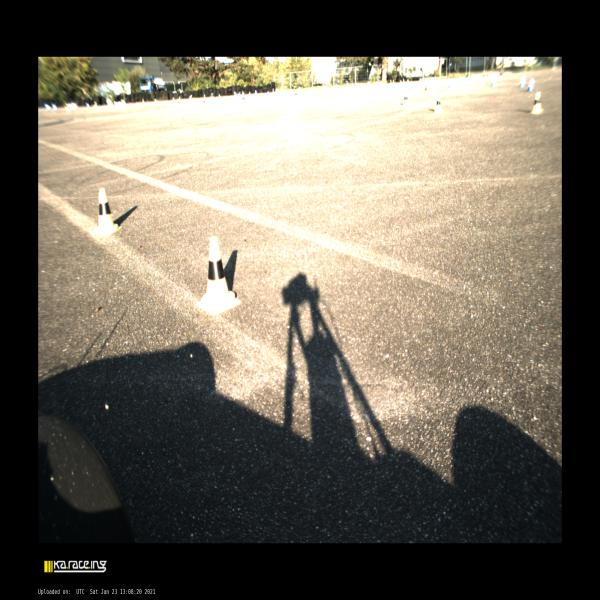blue_cone: (490, 76, 496, 88), (448, 81, 454, 92), (528, 80, 532, 91), (520, 77, 524, 88), (532, 78, 534, 90)
yellow_cone: (195, 236, 241, 315), (93, 188, 122, 237), (531, 92, 543, 114), (434, 95, 442, 112), (402, 92, 408, 104)
